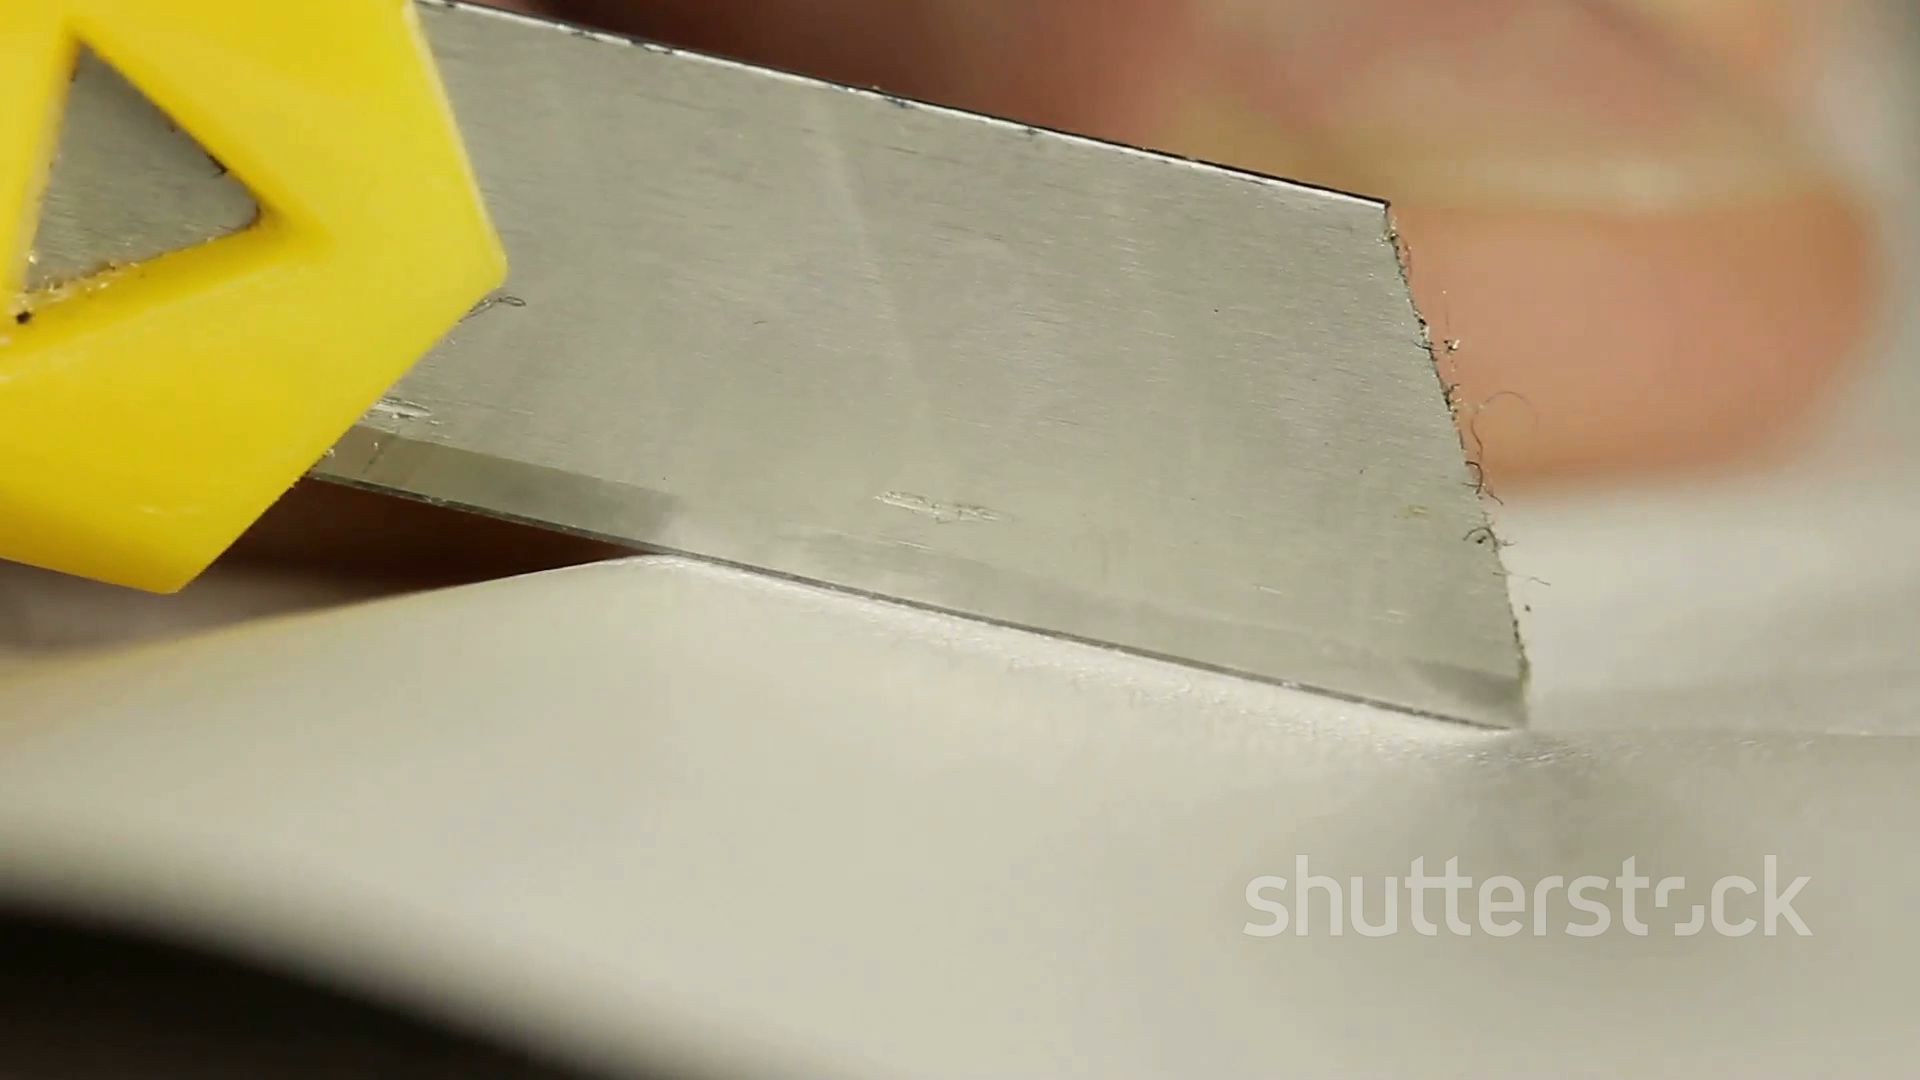cortante: (301, 0, 1528, 733)
